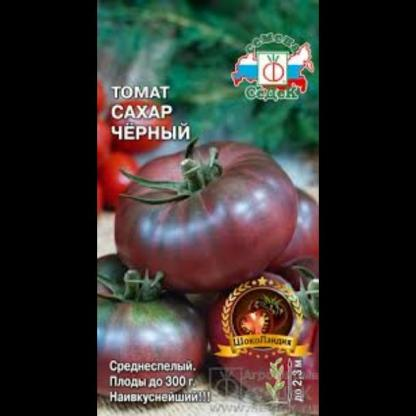tomato: (123, 134, 297, 278), (100, 235, 215, 412), (273, 175, 318, 268)
